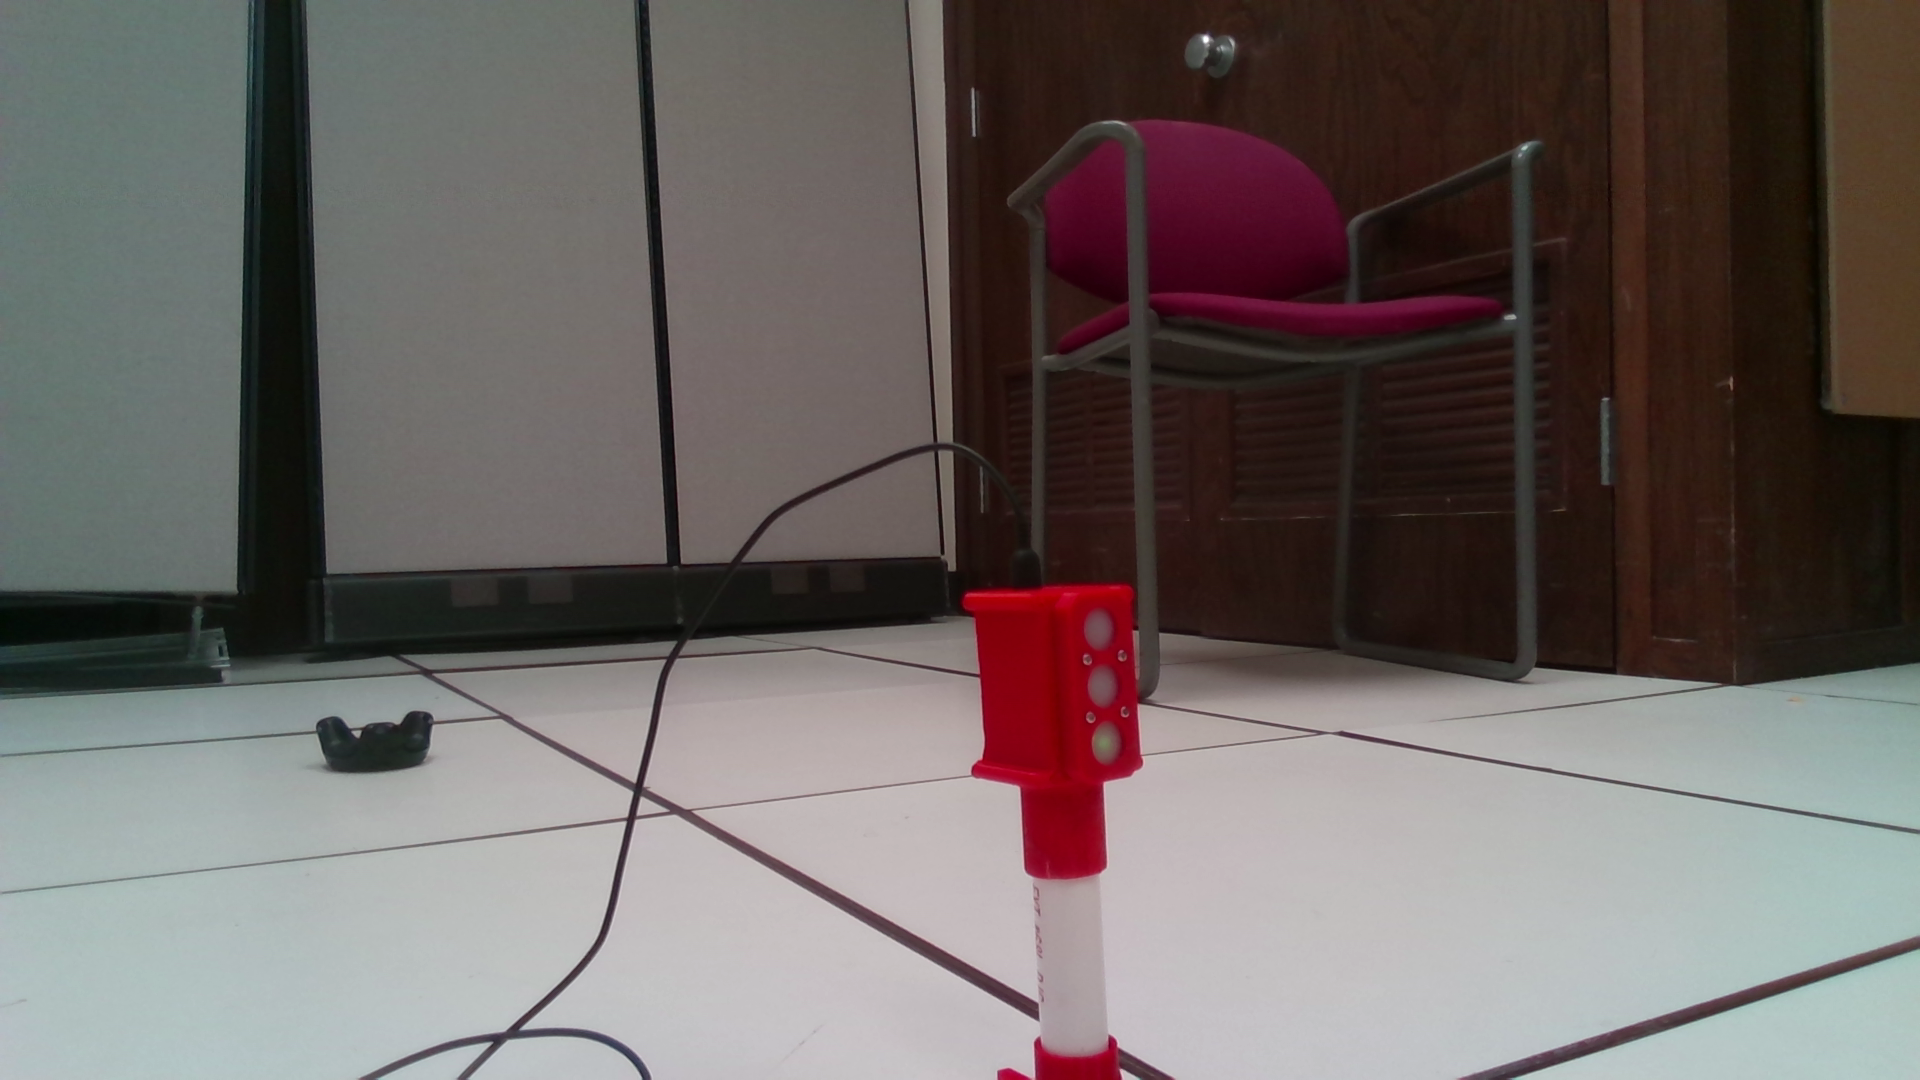stoplight: (957, 584, 1147, 880)
